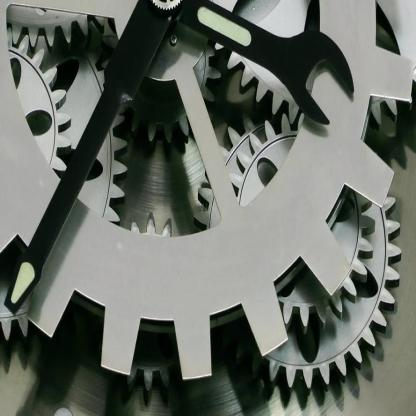FOD: (190, 104, 406, 398)
